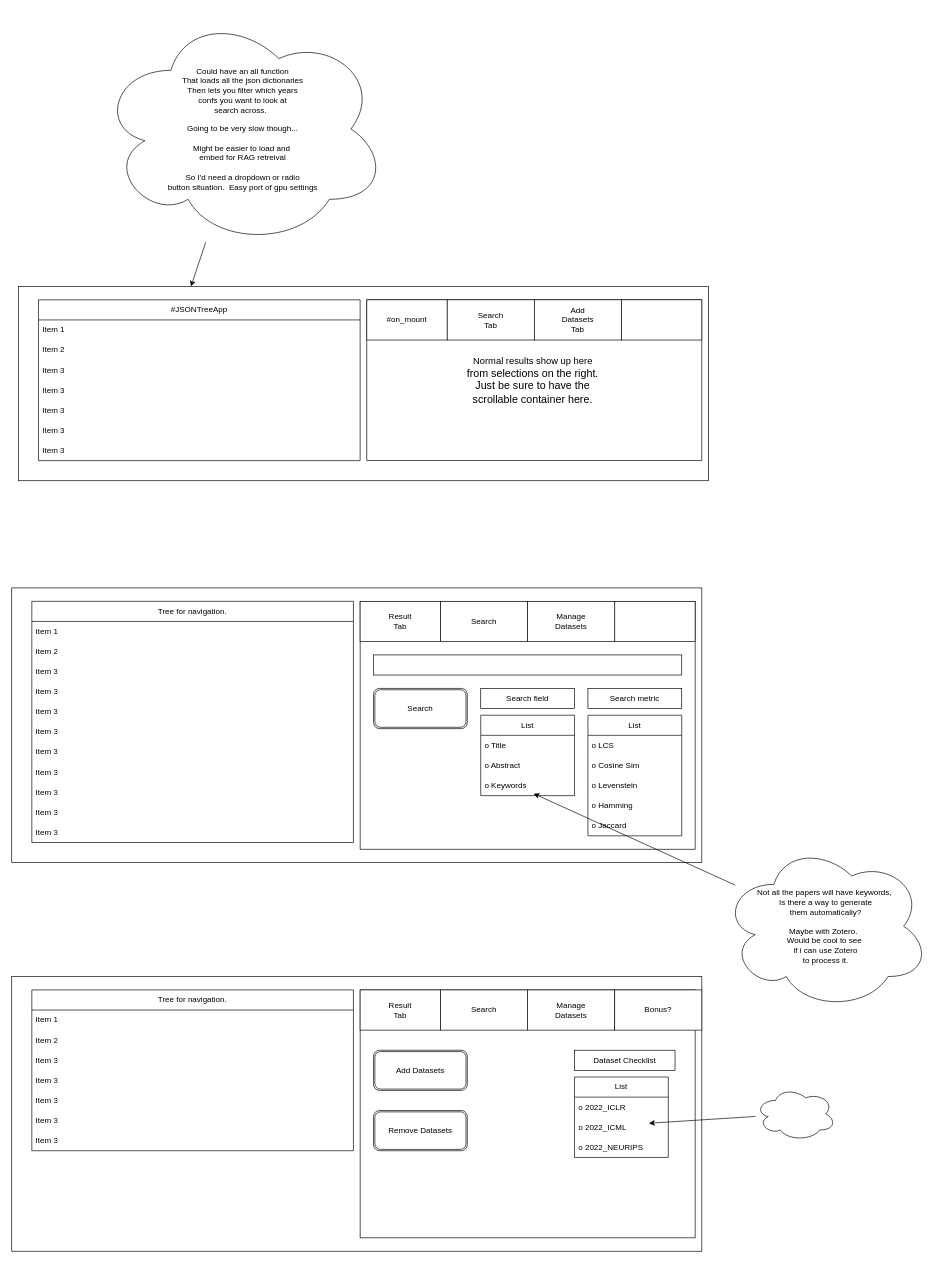
Some shapes in this 941 by 1263 pixel diagram are drawn without their labels. The centre of each missing label's shape, as x and y in pixels:
"Scrollable Container" belongs at (795,1113).
"Type search query here to do Levenstein search maybe? Not sure" belongs at (527,664).
